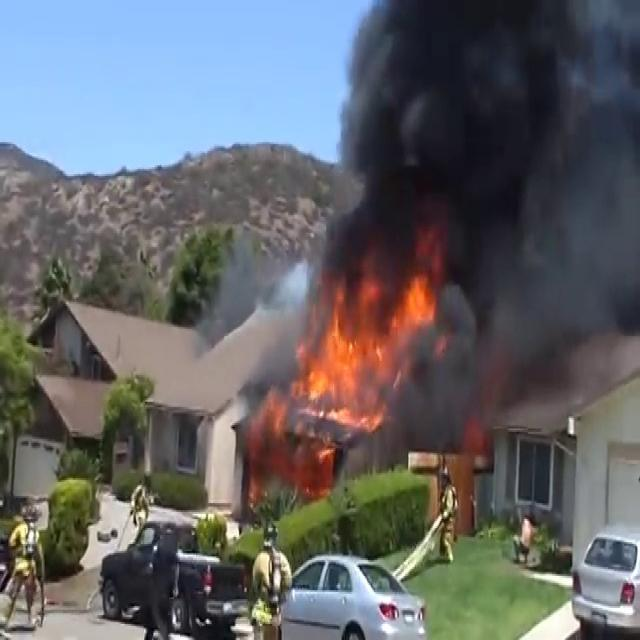Fire: (300, 263, 434, 425)
Smoke: (329, 0, 639, 439)
